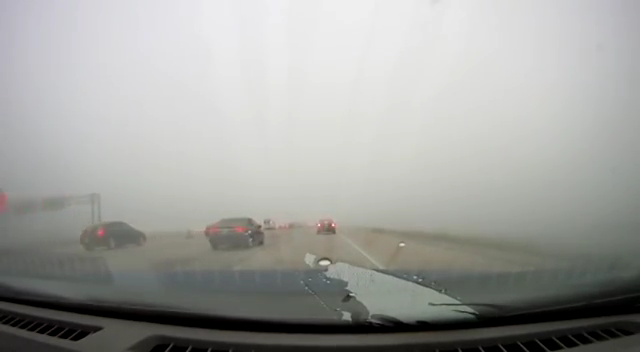car: (78, 221, 147, 253), (206, 217, 265, 249), (315, 218, 337, 234), (278, 222, 289, 230)
